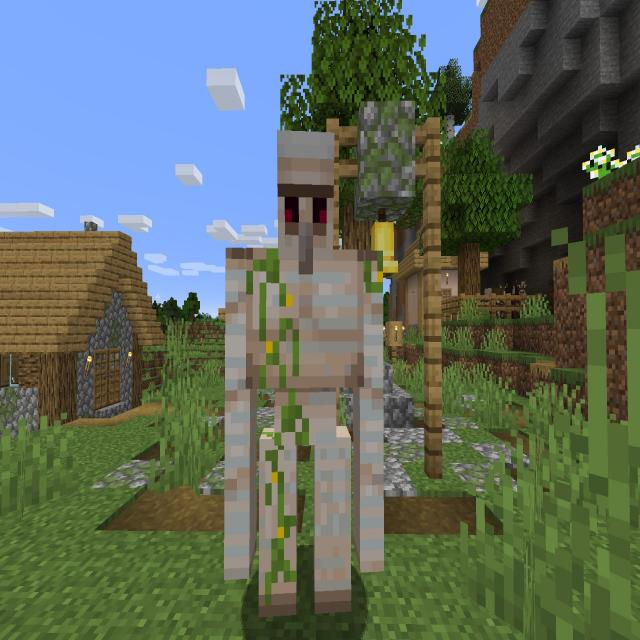Iron Golem: (222, 122, 386, 618)
